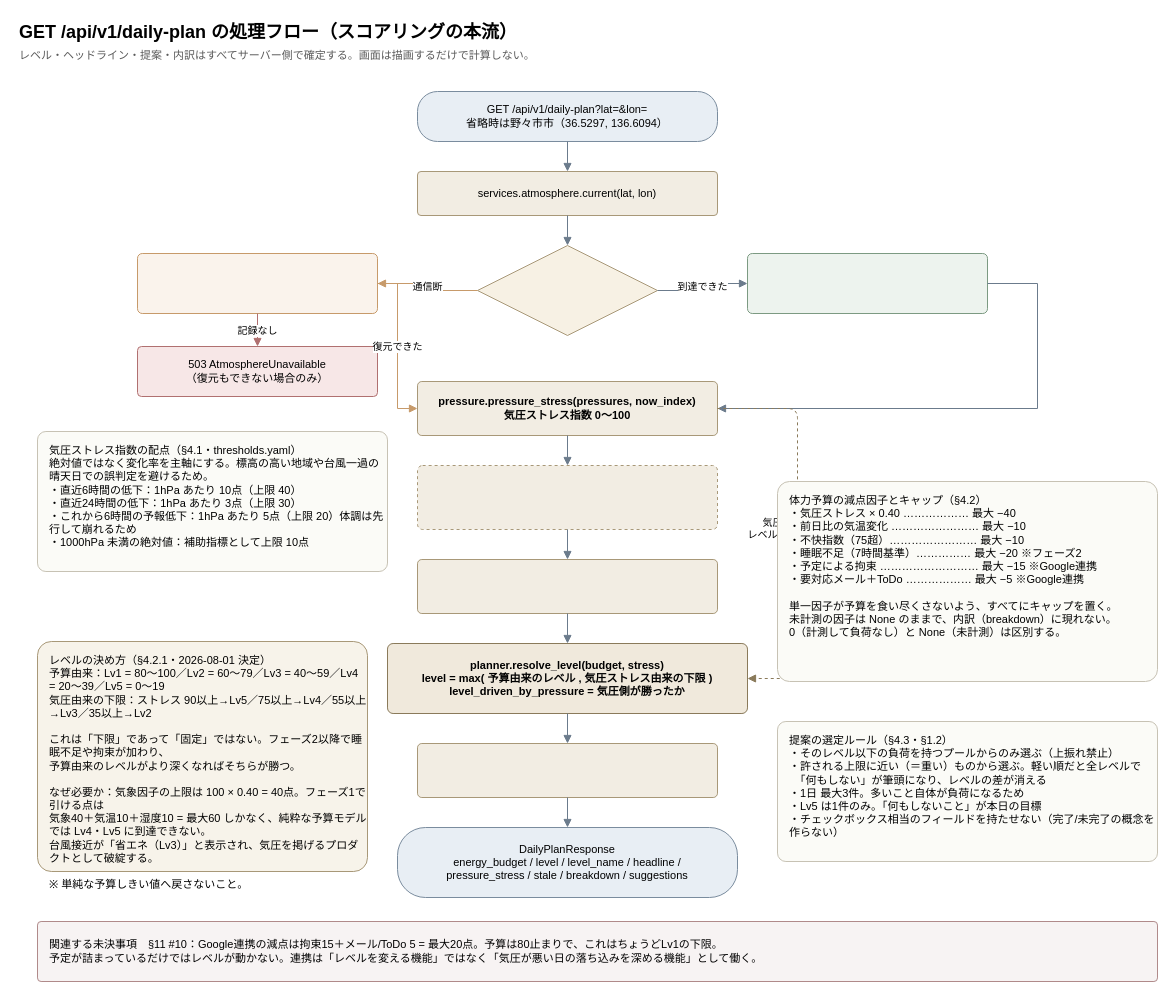
Some shapes in this 1175 by 999 pixel diagram are drawn without their labels. The shapes that lost their labels are listed below. From the top down, each one's centre as x and y in pixels, then its label:
point 257,283: _load_snapshot() 同一地点・直近6時間以内の記録から復元 stale = true
point 567,290: open_meteo.fetch() に到達できたか
point 867,283: _save_snapshot() atmosphere_snapshot に記録 stale = false
point 567,497: google_client.current_context() 連携済みのときだけ実行（5分キャッシュ） 未連携・取得失敗の項目は None のまま
point 567,586: budget.energy_budget(ctx) 100 から因子ごとに減点（各因子にキャップ）
point 567,770: planner.pick_suggestions(level) レベル以下の負荷プールから重い順に最大3件／Lv5は1件
